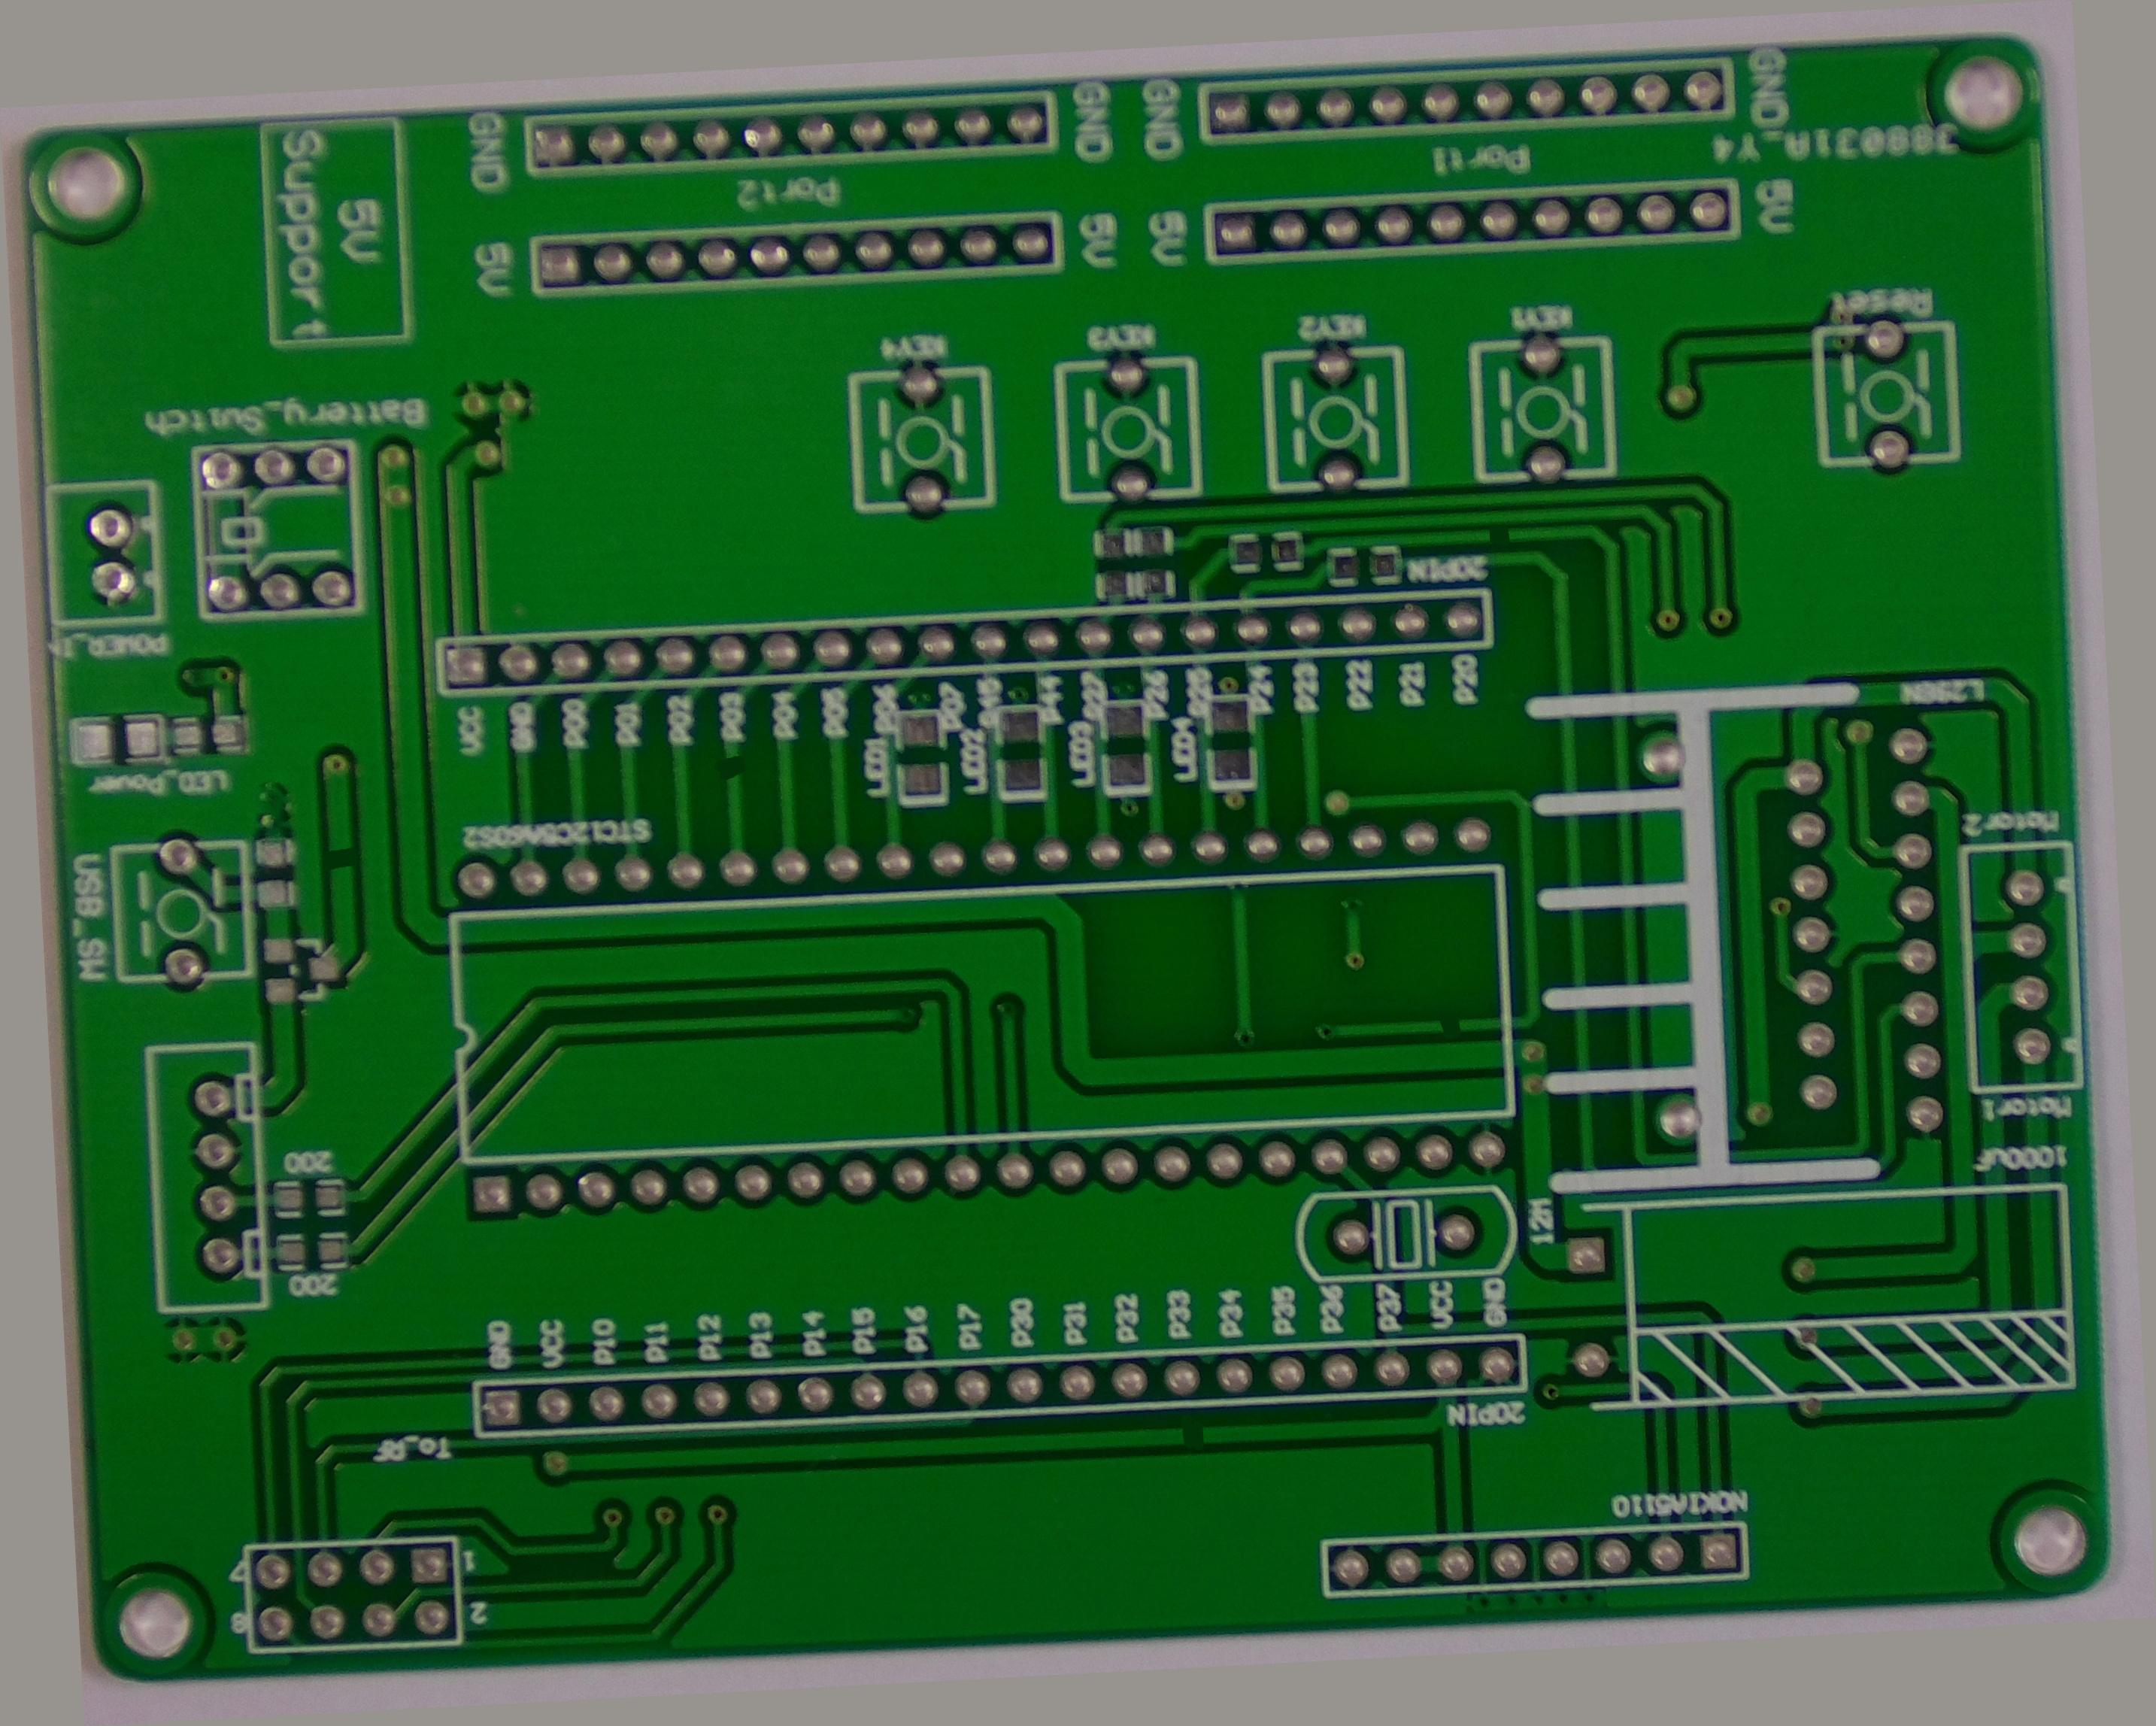open_circuit: (296, 794, 329, 840), (1145, 1462, 1187, 1494), (708, 726, 742, 764), (1436, 1043, 1473, 1071), (1515, 527, 1550, 548)
